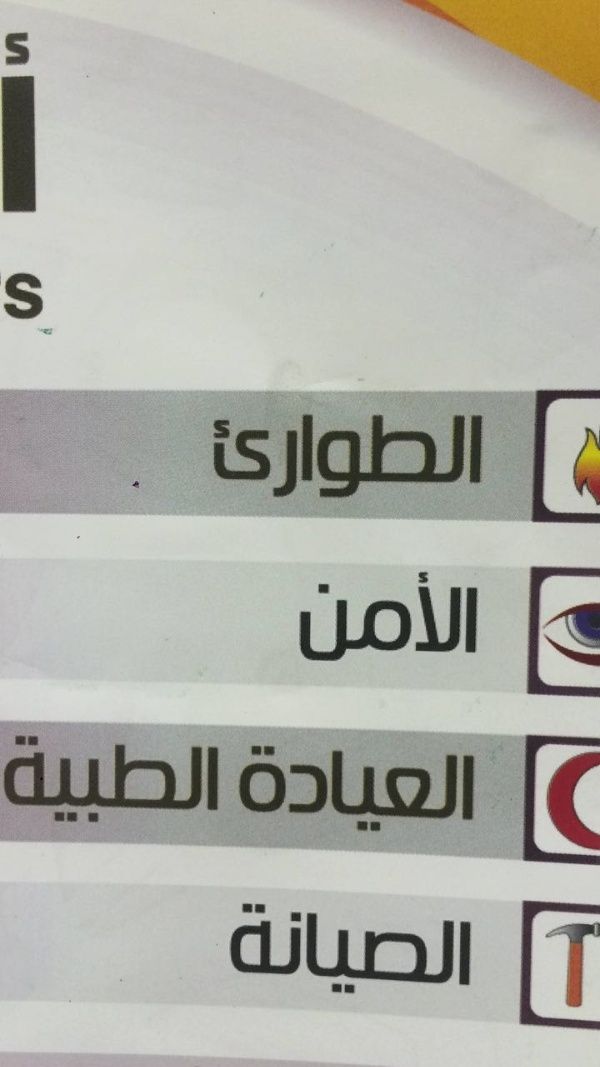text: (1, 26, 16, 218), (17, 26, 32, 218), (241, 900, 256, 1004), (257, 900, 272, 1004), (273, 900, 288, 1004), (289, 900, 304, 1004), (305, 900, 320, 1004), (321, 900, 336, 1004), (337, 900, 352, 1004), (353, 900, 368, 1004), (369, 900, 384, 1004), (385, 900, 400, 1004), (401, 900, 416, 1004), (417, 900, 432, 1004), (433, 900, 448, 1004), (449, 900, 464, 1004), (33, 26, 41, 218), (305, 567, 320, 662), (321, 567, 336, 662), (337, 567, 352, 662), (353, 567, 368, 662), (369, 567, 384, 662), (385, 567, 400, 662), (401, 567, 416, 662), (417, 567, 432, 662), (433, 567, 448, 662), (449, 567, 464, 662), (1, 734, 16, 829), (17, 734, 32, 829), (33, 734, 48, 829), (49, 734, 64, 829), (65, 734, 80, 829), (81, 734, 96, 829), (97, 734, 112, 829), (113, 734, 128, 829), (129, 734, 144, 829), (145, 734, 160, 829), (161, 734, 176, 829), (177, 734, 192, 829), (193, 734, 208, 829), (241, 744, 256, 835), (257, 744, 272, 835), (273, 744, 288, 835), (289, 744, 304, 835), (305, 744, 320, 835), (321, 744, 336, 835), (337, 744, 352, 835), (353, 744, 368, 835), (369, 744, 384, 835), (385, 744, 400, 835), (401, 744, 416, 835), (417, 744, 432, 835), (433, 744, 448, 835), (449, 744, 464, 835), (225, 411, 240, 500), (241, 411, 256, 500), (257, 411, 272, 500), (273, 411, 288, 500), (289, 411, 304, 500), (305, 411, 320, 500), (321, 411, 336, 500), (337, 411, 352, 500), (353, 411, 368, 500), (369, 411, 384, 500), (385, 411, 400, 500), (401, 411, 416, 500), (417, 411, 432, 500), (433, 411, 448, 500), (449, 411, 464, 500), (465, 411, 480, 500), (465, 567, 479, 662), (211, 411, 224, 500), (209, 734, 220, 829), (465, 744, 476, 835), (1, 272, 16, 321), (17, 272, 32, 321), (233, 900, 240, 1004), (465, 900, 472, 1004), (297, 567, 304, 662), (33, 272, 46, 321), (481, 411, 485, 500)
